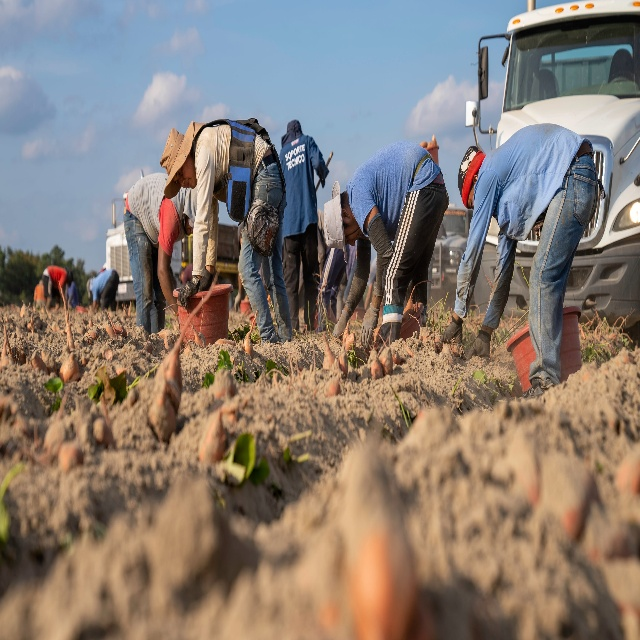Guantes: (359, 303, 381, 352), (466, 330, 491, 361), (178, 275, 200, 308), (442, 315, 463, 348), (331, 308, 349, 335), (201, 268, 213, 292)
